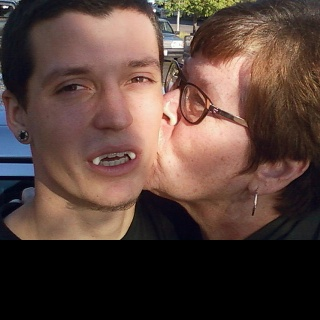without_mask: (30, 8, 163, 207), (144, 58, 247, 200)
